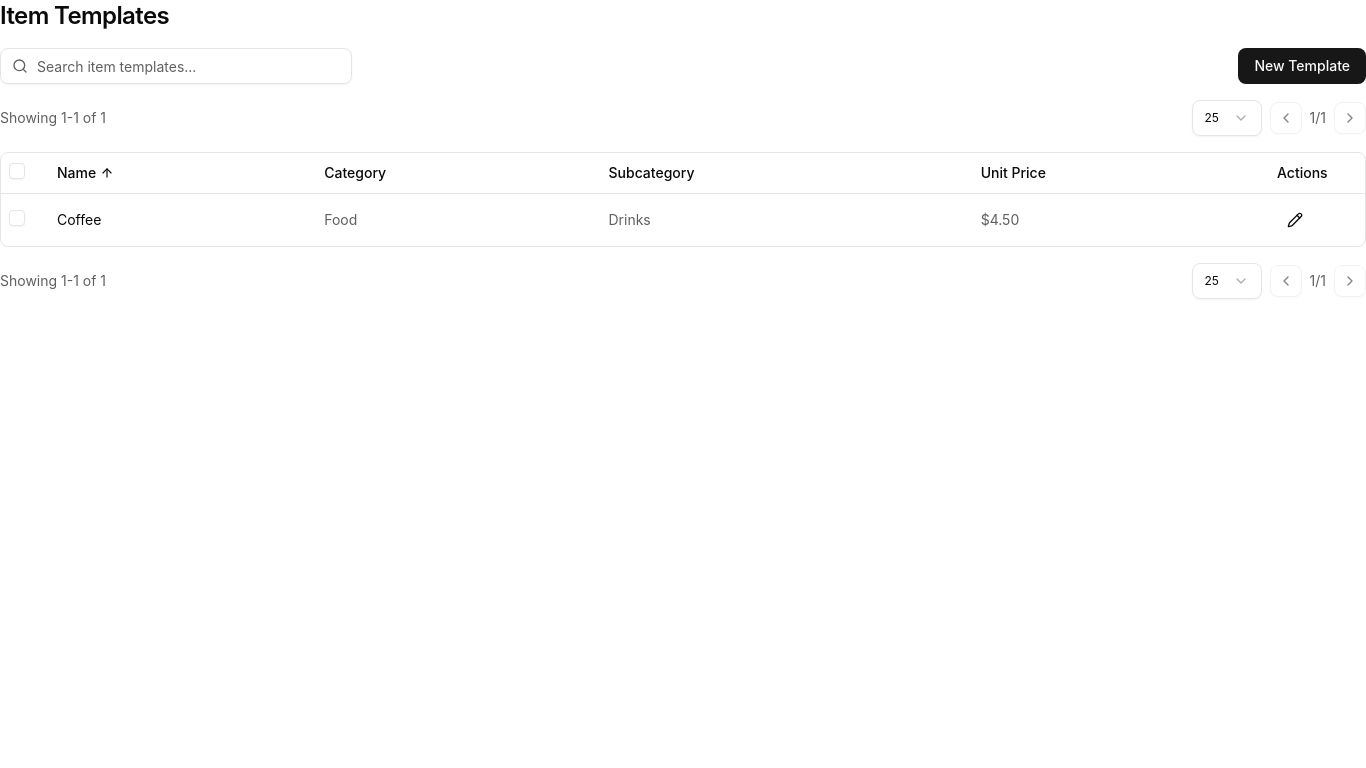
ItemTemplates › opens edit dialog when Edit button is clicked
The image size is (1366, 768).
Click the button named "edit" at (1295, 220), box [1277,202,1313,238]
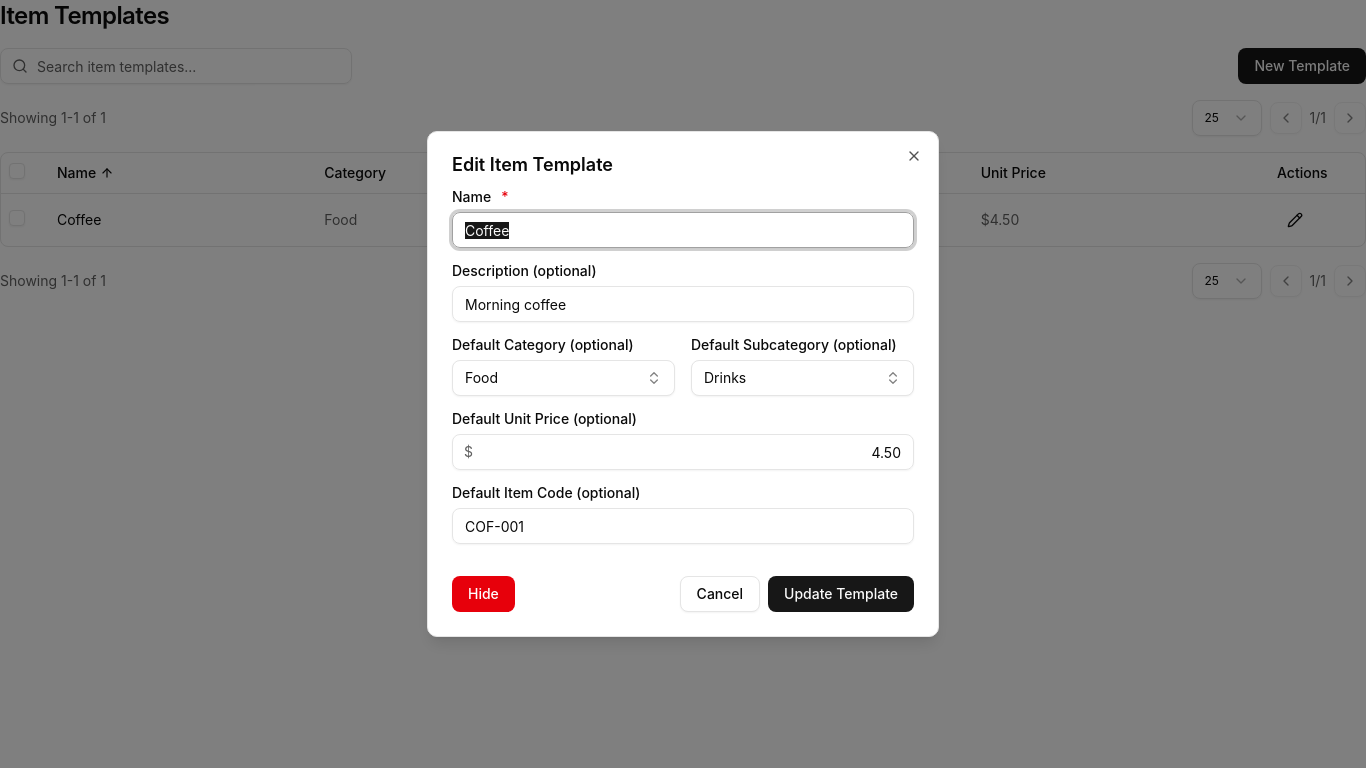
Expected: the heading "Edit Item Template" is shown, [452,154,613,175]
